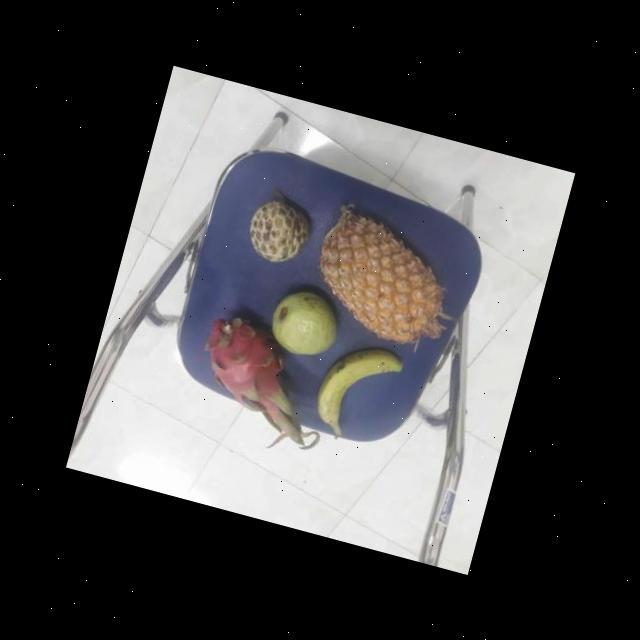Sakya fruit: (242, 190, 319, 270)
banana: (307, 332, 409, 444)
guava: (264, 283, 350, 364)
pineapple: (300, 202, 467, 354)
pitaya: (198, 309, 308, 419)
